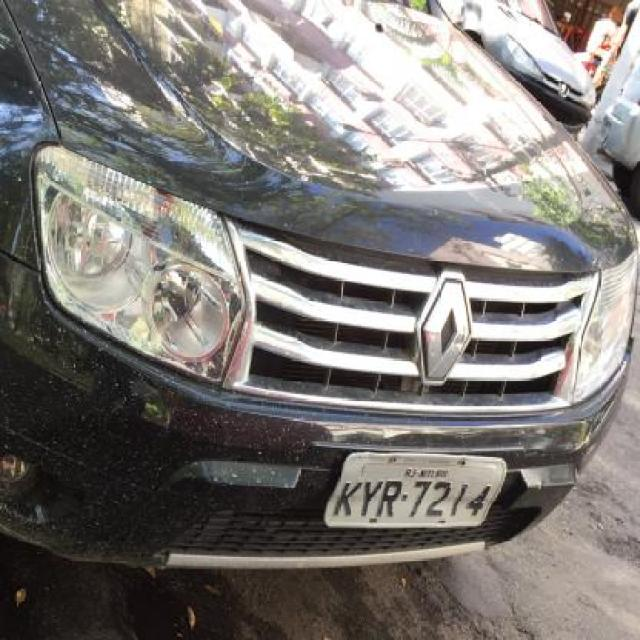old_plate: (319, 447, 518, 535)
